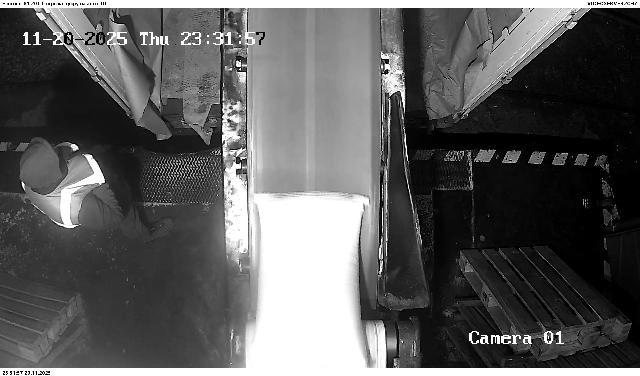bag: (253, 194, 370, 369)
